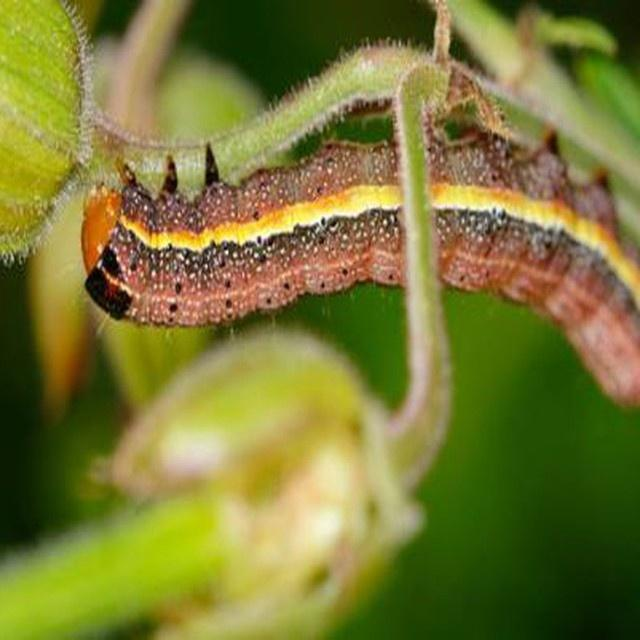Plaga: (88, 130, 640, 390)
